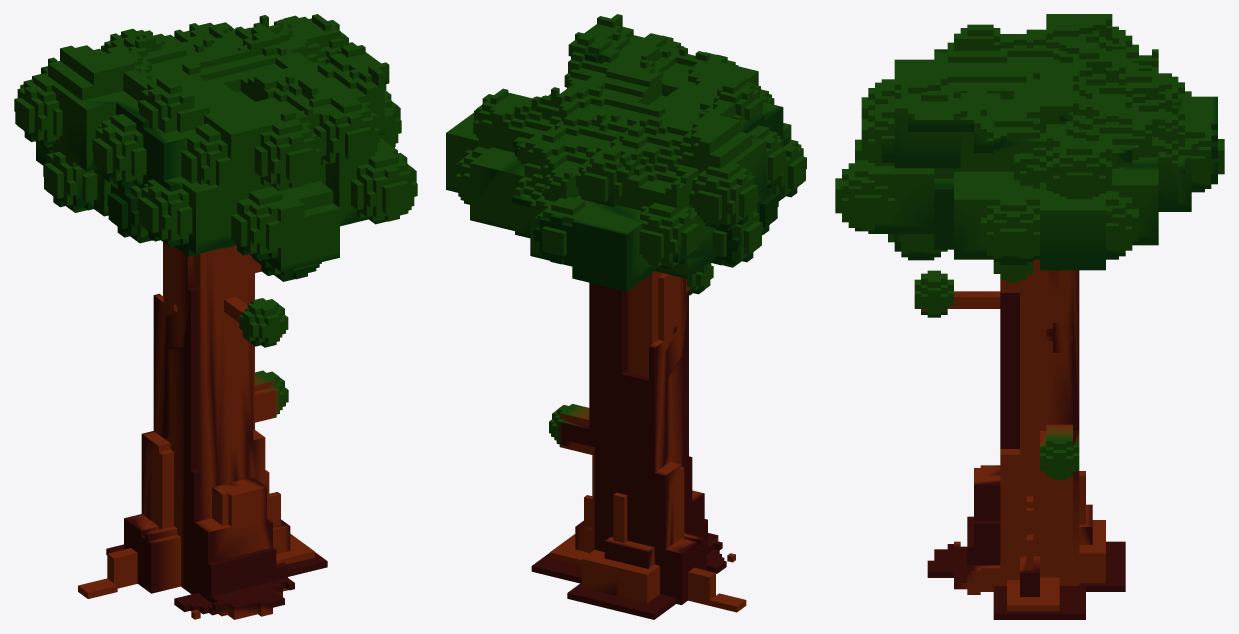
Rendered from Tree_4.fbx.
3 views of the same model, side by side, from view 1: azimuth 30°, elevation 25°; view 2: azimuth 150°, elevation 25°; view 3: azimuth 270°, elevation 25° (orthographic). The views are drawn at different scales.
Visible parts, largest first — view 1: Tree_4; view 2: Tree_4; view 3: Tree_4.
Boxes of the visible parts, bbox=[...] form: Tree_4: bbox=[14, 14, 417, 619]; Tree_4: bbox=[446, 14, 806, 619]; Tree_4: bbox=[835, 14, 1224, 619].
Size of the model in its own units: 291 by 446 by 306.
